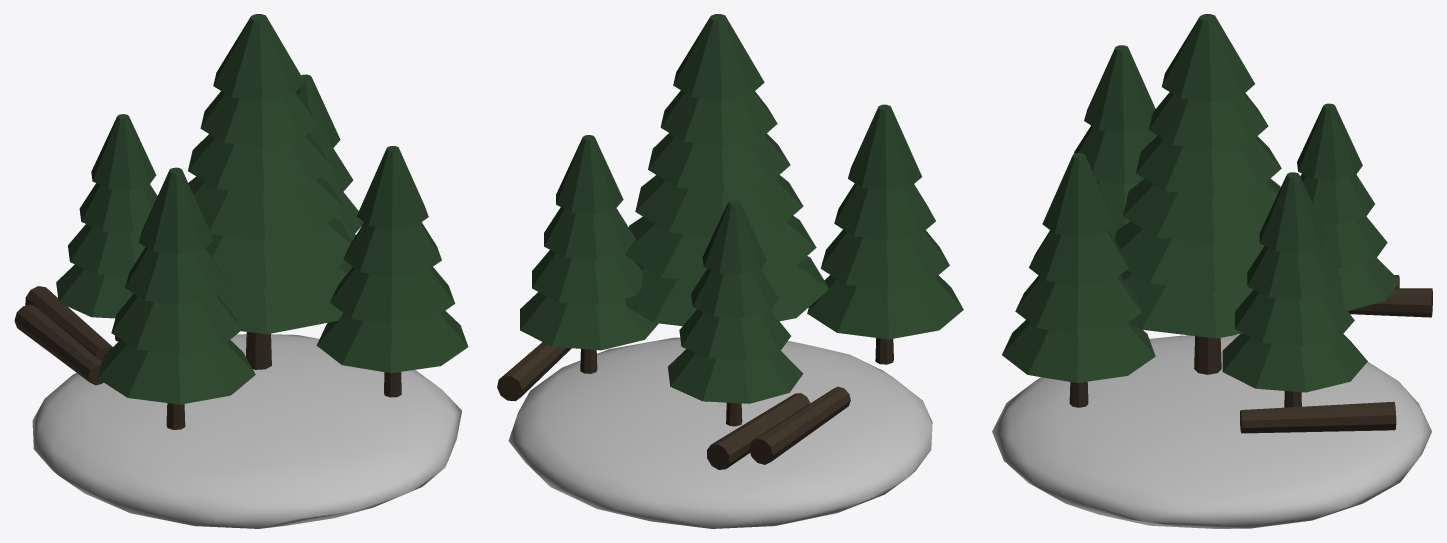
File: node_wood.fbx
3 views of the same model, side by side, from view 1: azimuth 30°, elevation 25°; view 2: azimuth 150°, elevation 25°; view 3: azimuth 270°, elevation 25° (orthographic). The views are drawn at different scales.
Parts seen in each view (by area): view 1: node_wood; view 2: node_wood; view 3: node_wood.
Part boxes in pixels (box(x1,y1,x2,y2)): node_wood: box(14, 14, 468, 528); node_wood: box(497, 14, 963, 528); node_wood: box(992, 14, 1432, 528).
Size of the model in its own units: 6.2 by 7.12 by 6.27.
